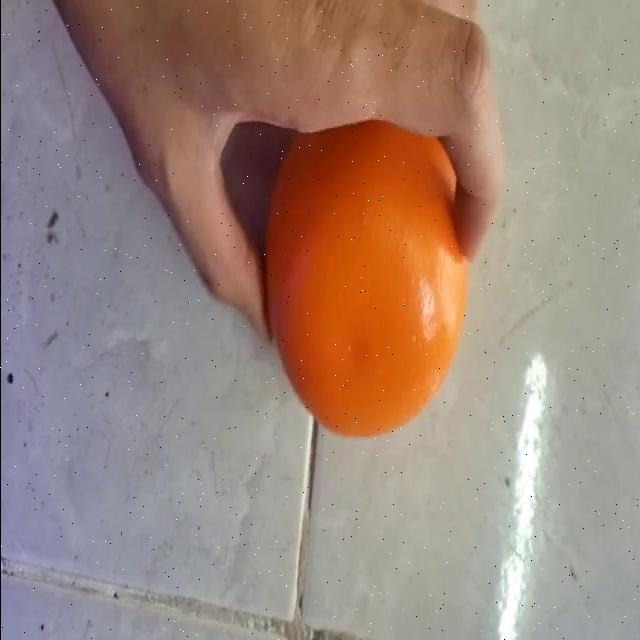Orange: (263, 119, 471, 439)
